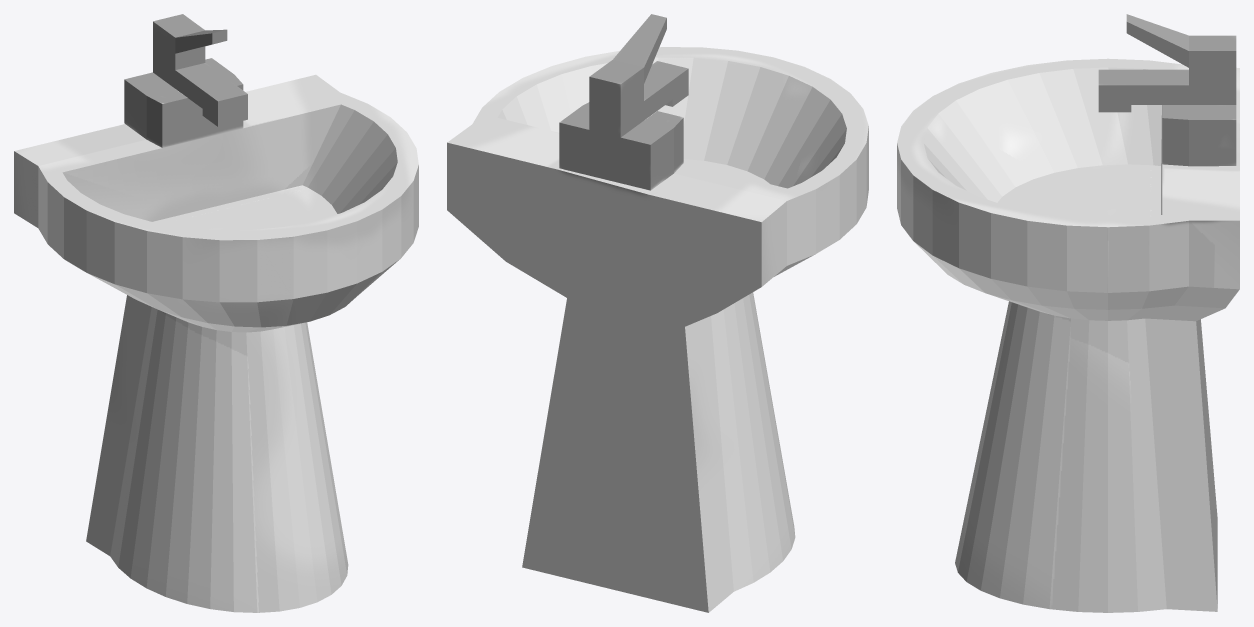
File: Lavabo_prefab.fbx
3 views of the same model, side by side, from view 1: azimuth 30°, elevation 25°; view 2: azimuth 150°, elevation 25°; view 3: azimuth 270°, elevation 25° (orthographic). The views are drawn at different scales.
Visible parts, largest first — view 1: Cylinder.001; view 2: Cylinder.001; view 3: Cylinder.001.
Boxes of the visible parts, left/top/right/bottom form: Cylinder.001: left=14, top=14, right=418, bottom=612; Cylinder.001: left=447, top=14, right=868, bottom=612; Cylinder.001: left=897, top=14, right=1239, bottom=612.
Size of the model in its own units: 189 by 287 by 162.
Materials: 1 (1 with a texture image).
